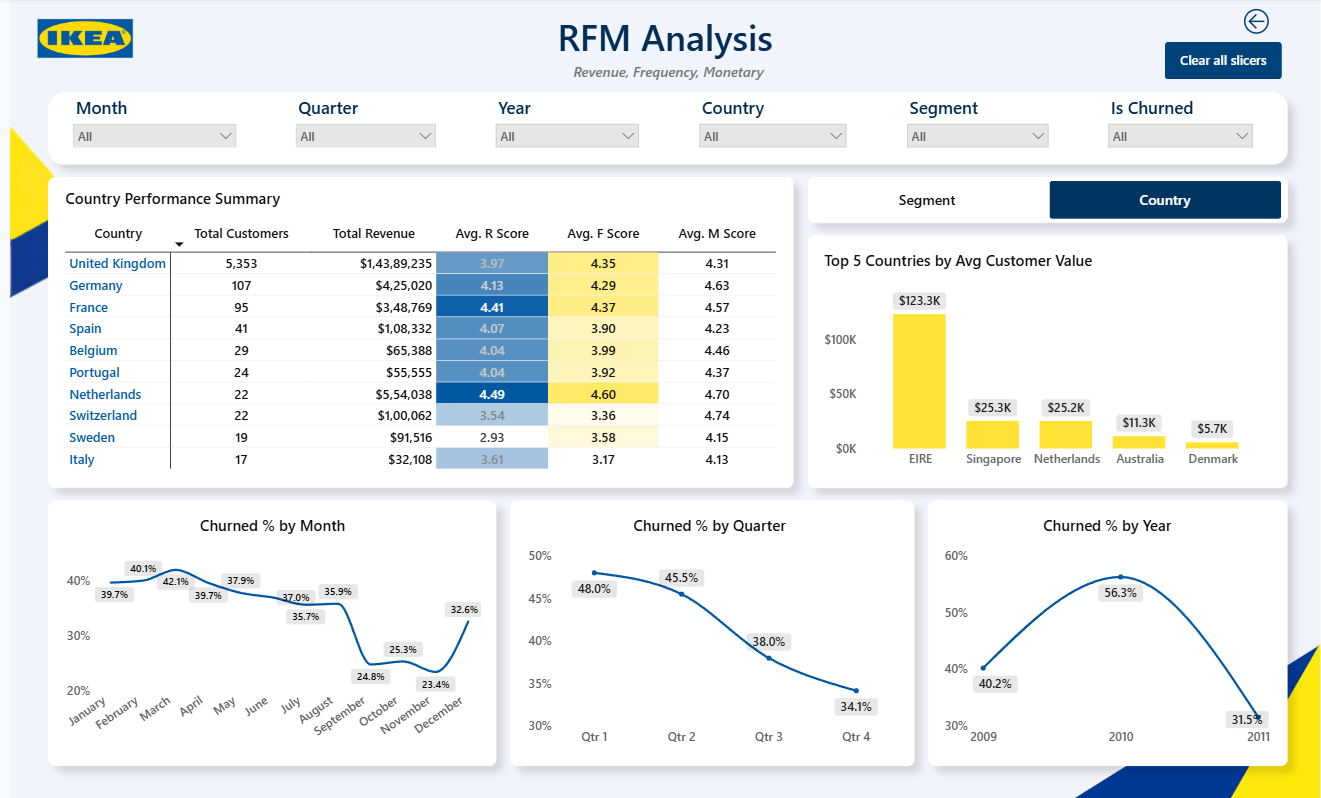

This screenshot's page, from the dashboard's own definition file:
{"tool":"powerbi","page":{"name":"RFM Analysis","canvas":[1920,1080],"ordinal":2},"visuals":[{"type":"slicer","title":"Month","fields":{"Values":["Sheet1.InvoiceDate.Variation.Date Hierarchy.Month"]},"box":[164.7,132.2,227,82.3],"z":0},{"type":"columnChart","title":"Segment by Avg Customer Value ","fields":{"Category":["Sheet1.Segment"],"Y":["01_Measures.Avg Customer Value"]},"box":[1157.7,323.9,627.6,327.6],"z":0,"group":"g1"},{"type":"slicer","title":"Month","fields":{"Values":["Sheet1.InvoiceDate.Variation.Date Hierarchy.Quarter"]},"box":[462.7,132.5,196.9,103.1],"z":1000},{"type":"pivotTable","title":"Segment Performance Summary","fields":{"Rows":["Sheet1.Segment"],"Values":["01_Measures.Total Customers","01_Measures.Total Revenue","Avg(Sheet1.R_Score)","Avg(Sheet1.F_Score)","Avg(Sheet1.M_Score)"]},"box":[142.7,242,983.8,410.8],"z":1000,"group":"g1"},{"type":"lineChart","fields":{"Category":["Sheet1.InvoiceDate.Variation.Date Hierarchy.Year"],"Y":["01_Measures.Churned %"]},"box":[1317.8,677.3,467.5,342.3],"z":2000},{"type":"slicer","title":"Month","fields":{"Values":["Sheet1.InvoiceDate.Variation.Date Hierarchy.Year"]},"box":[730.3,132.5,200.6,103.1],"z":3000},{"type":"slicer","title":"Month","fields":{"Values":["Sheet1.Country"]},"box":[1001.6,132.5,206.1,103.1],"z":4000},{"type":"slicer","title":"Month","fields":{"Values":["Sheet1.Segment"]},"box":[1278.4,132.5,198.8,103.1],"z":5000},{"type":"slicer","title":"Month","fields":{"Values":["Sheet1.IsChurned"]},"box":[1547.9,132.5,202.5,103.1],"z":6000},{"type":"actionButton","box":[1628.8,60.7,156.4,49.7],"z":7000},{"type":"image","box":[93.9,0,184.1,110.4],"z":8000},{"type":"textbox","box":[702.3,20.2,515.3,66.3],"z":9000},{"type":"textbox","box":[784.1,86.5,360.7,38.7],"z":10000},{"type":"actionButton","box":[1702.5,9.2,93.9,44.2],"z":11000},{"type":"bookmarkNavigator","box":[1155.8,244.8,629.5,51.5],"z":13000},{"type":"lineChart","fields":{"Category":["Sheet1.InvoiceDate.Variation.Date Hierarchy.Quarter"],"Y":["01_Measures.Churned %"]},"box":[762,677.3,517.2,342.3],"z":14000},{"type":"lineChart","fields":{"Category":["Sheet1.InvoiceDate.Variation.Date Hierarchy.Month"],"Y":["01_Measures.Churned %"]},"box":[141.7,677.3,589,342.3],"z":15000},{"type":"group","id":"g1","title":"Segment","box":[142.7,242,1642.6,410.8],"z":16000}]}

Visuals, with their boxes on the page's 1920x1080 design canvas (x1, y1, x2, y2). These are canvas units, not pixel positions in the 1321x798 screenshot, which may show the page scaled, cropped or inside an application window:
"Month" slicer: box(165, 132, 392, 214)
"Segment by Avg Customer Value " columnChart: box(1158, 324, 1785, 652)
"Month" slicer: box(463, 132, 660, 236)
"Segment Performance Summary" pivotTable: box(143, 242, 1126, 653)
lineChart - Sheet1.InvoiceDate.Variation.Date Hierarchy.Year x 01_Measures.Churned %: box(1318, 677, 1785, 1020)
"Month" slicer: box(730, 132, 931, 236)
"Month" slicer: box(1002, 132, 1208, 236)
"Month" slicer: box(1278, 132, 1477, 236)
"Month" slicer: box(1548, 132, 1750, 236)
actionButton: box(1629, 61, 1785, 110)
image: box(94, 0, 278, 110)
textbox: box(702, 20, 1218, 86)
textbox: box(784, 86, 1145, 125)
actionButton: box(1702, 9, 1796, 53)
bookmarkNavigator: box(1156, 245, 1785, 296)
lineChart - Sheet1.InvoiceDate.Variation.Date Hierarchy.Quarter x 01_Measures.Churned %: box(762, 677, 1279, 1020)
lineChart - Sheet1.InvoiceDate.Variation.Date Hierarchy.Month x 01_Measures.Churned %: box(142, 677, 731, 1020)
"Segment" group: box(143, 242, 1785, 653)
